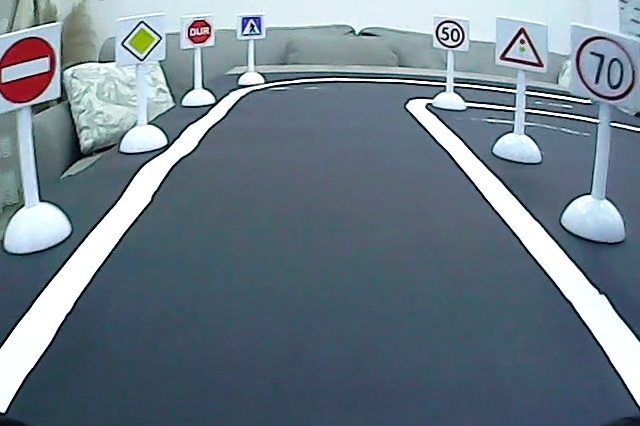do not enter: (1, 34, 60, 107)
pedestrian crossing: (240, 14, 264, 39)
red light: (496, 24, 549, 73)
speed limit 50: (435, 19, 467, 51)
speed limit 70: (574, 32, 637, 104)
stop sign: (185, 17, 214, 45)
